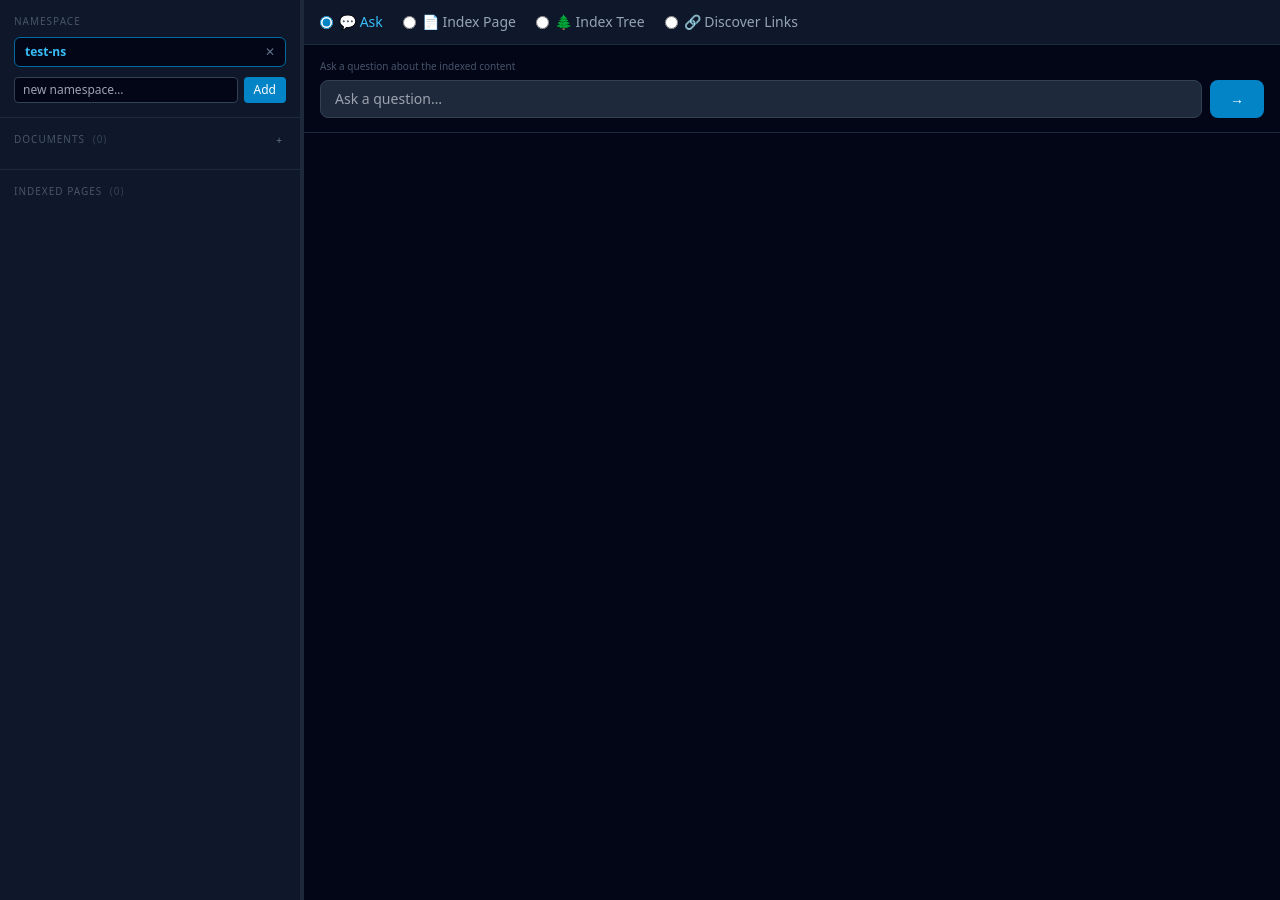
it: App › keeps an Ask answer expanded when another tool returns a result
Check: the text "test-ns" is shown, box x1=25 y1=43 x2=66 y2=60
Type "first question" into the field with placeholder "Ask a question…" at (761,99), box x1=320 y1=80 x2=1202 y2=118
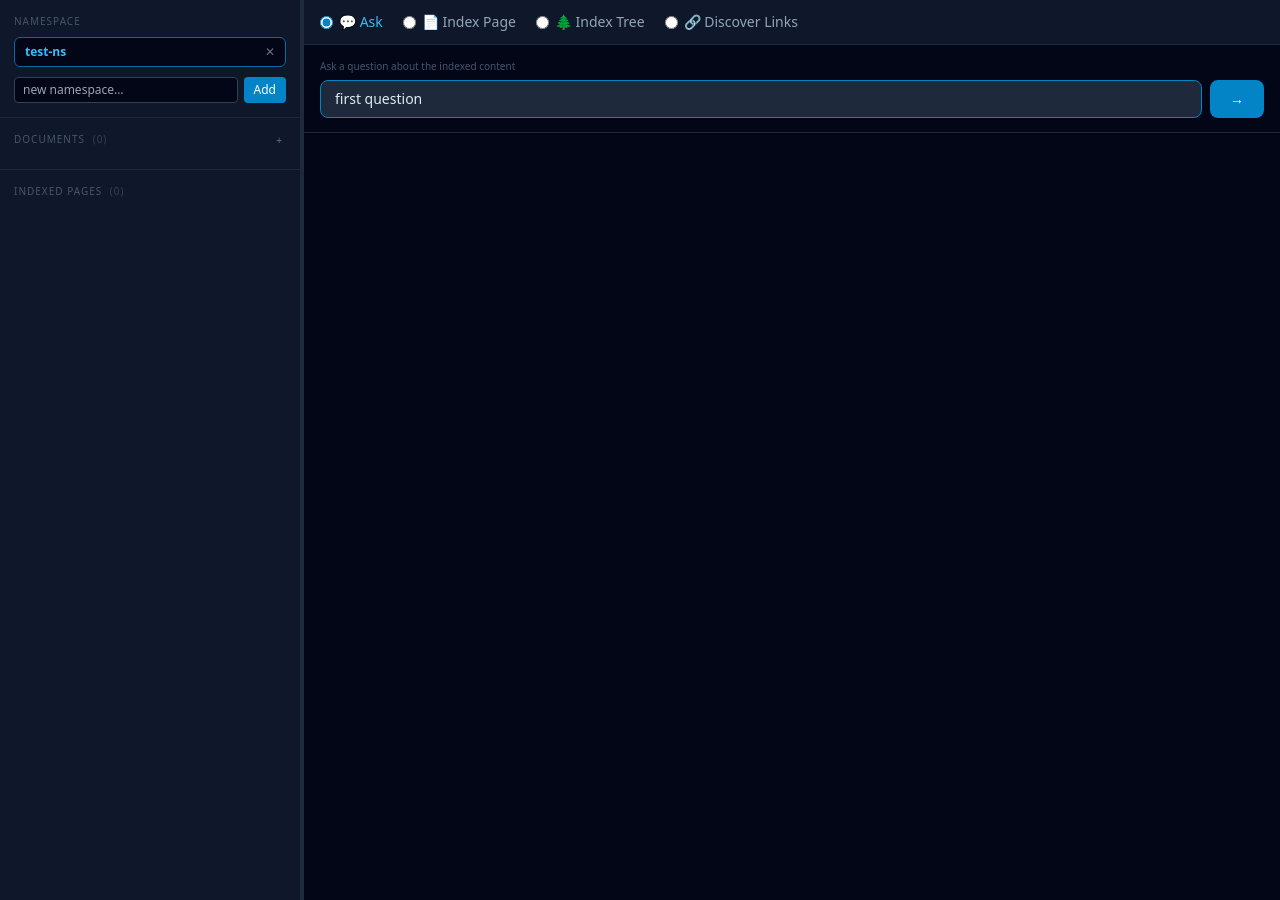
Click the button named "Ask" at (1237,99), box x1=1210 y1=80 x2=1264 y2=118
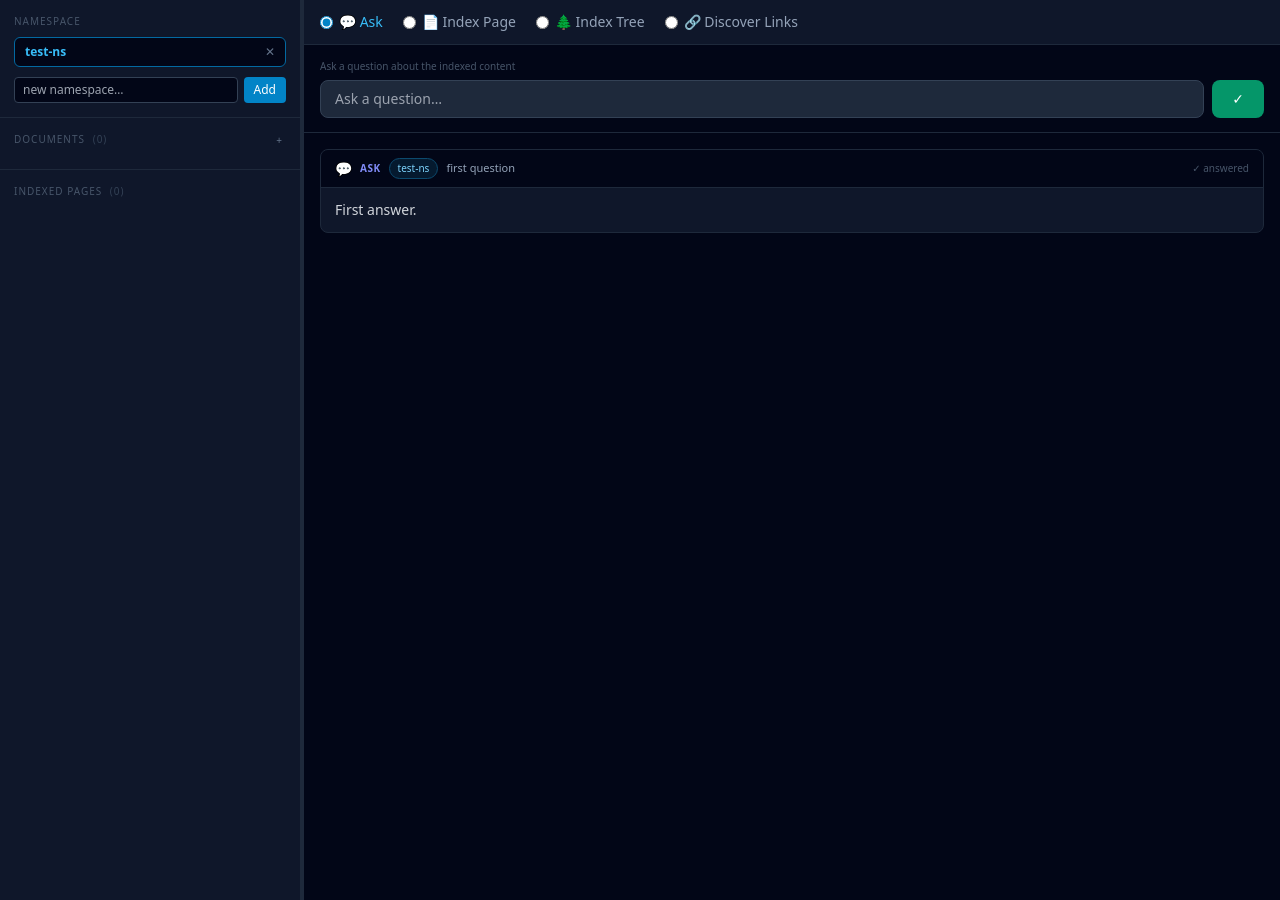
Check: the text "First answer." is shown, box x1=335 y1=200 x2=416 y2=219
Click the radio button labelled "Index Page" at (409,22), box x1=403 y1=16 x2=416 y2=28
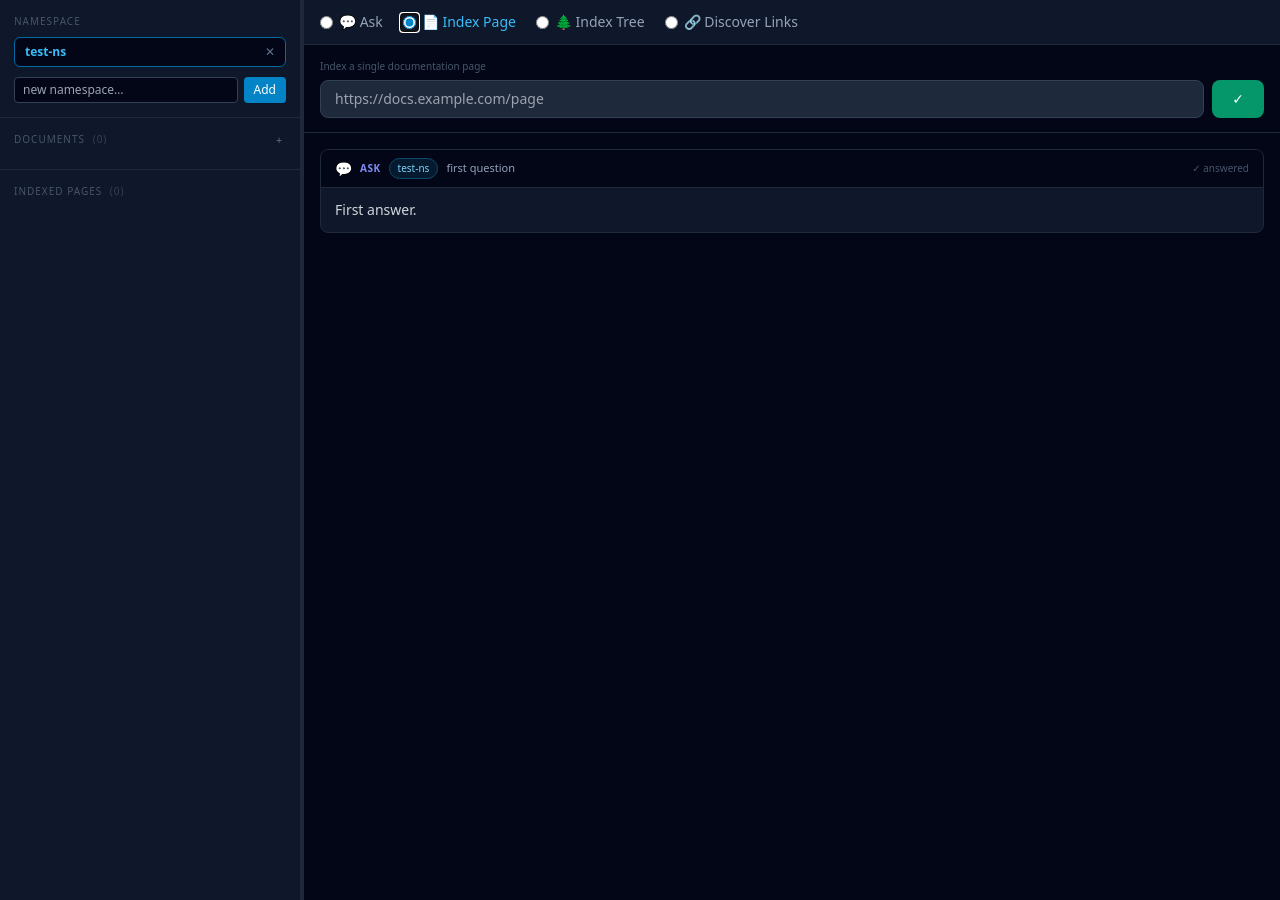
Type "https://example.com/" into the field with placeholder "https://docs.example.com/page" at (762,99), box x1=320 y1=80 x2=1204 y2=118
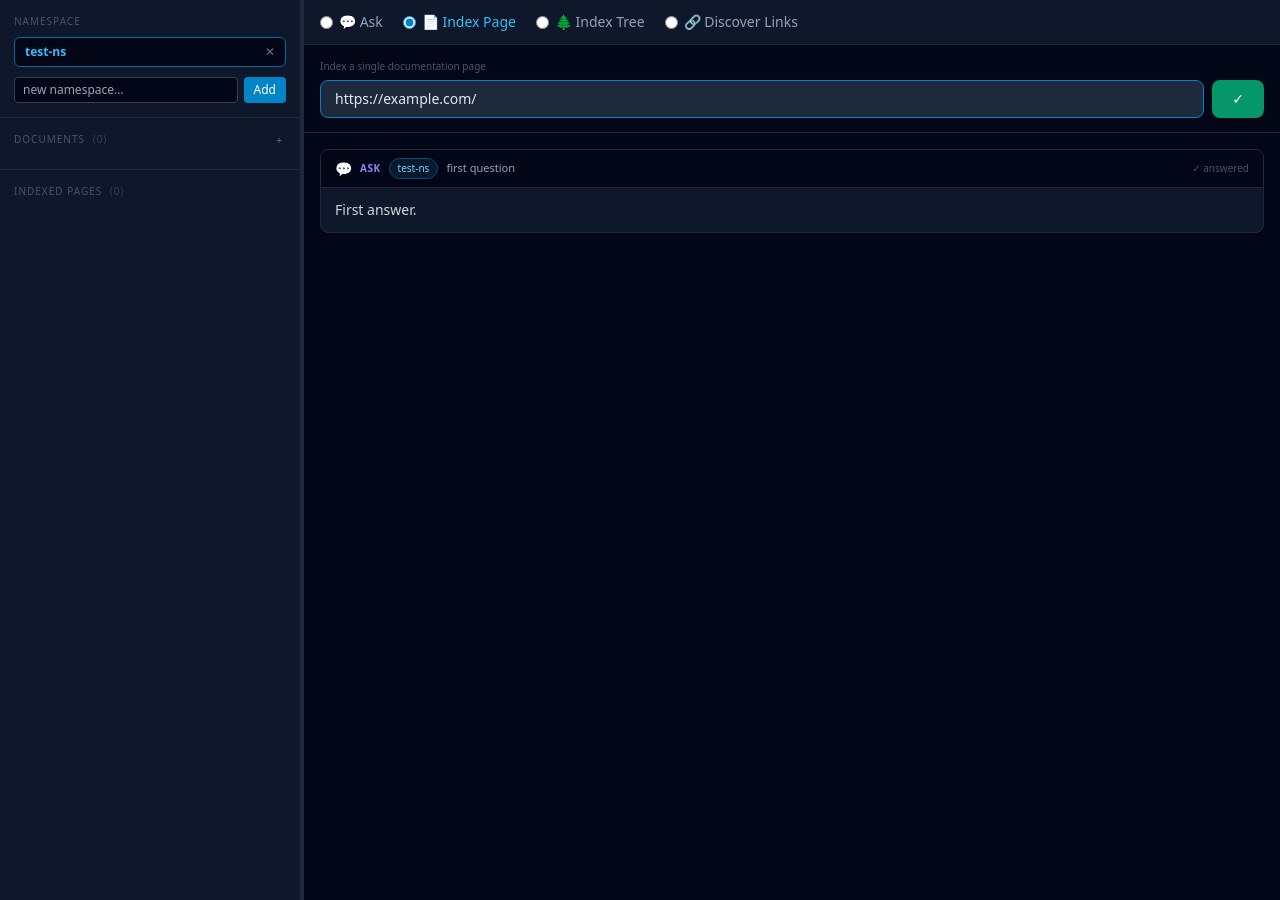
Click the button named "Index" at (1238,99), box x1=1212 y1=80 x2=1264 y2=118
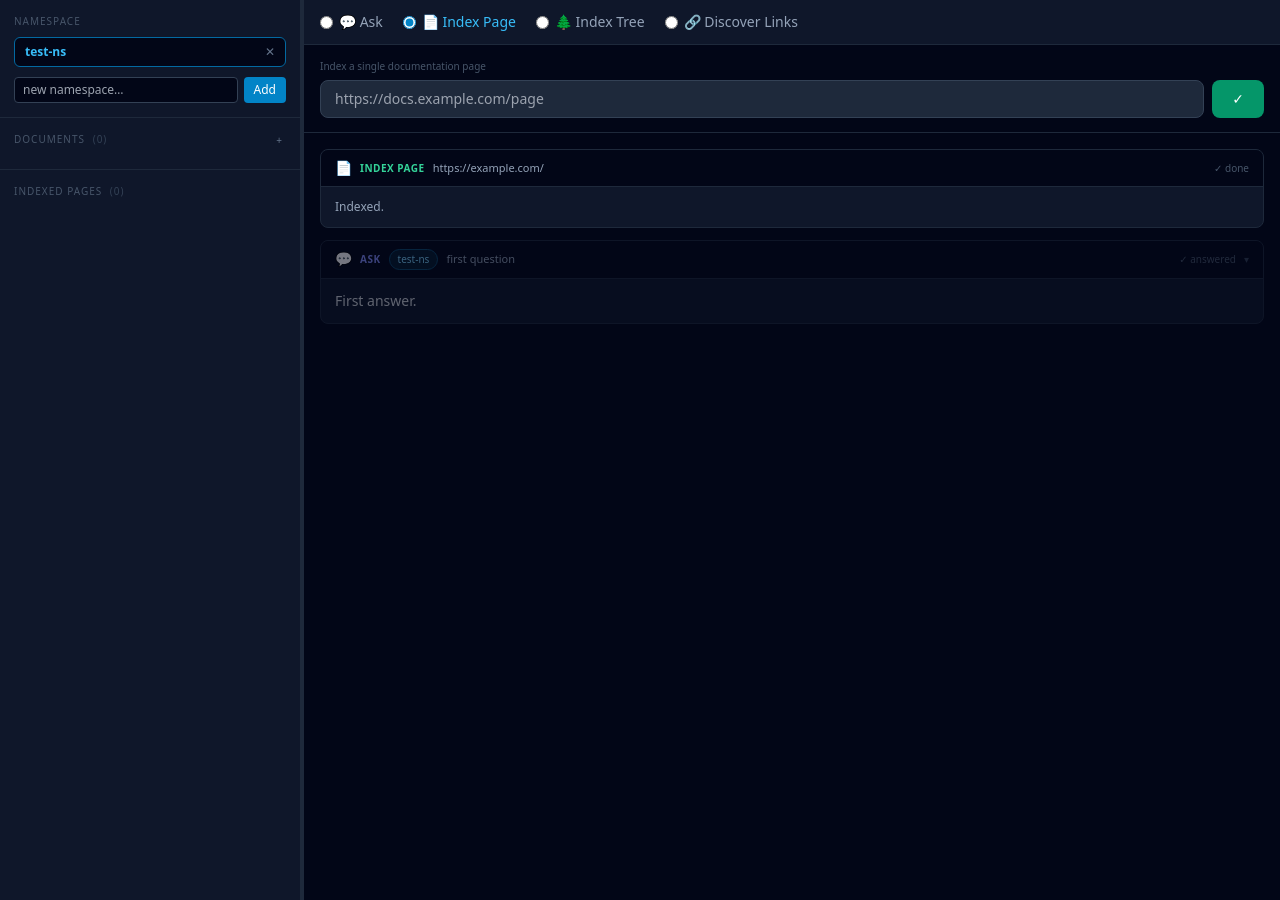
Check: the text "First answer." is shown, box x1=335 y1=290 x2=416 y2=310
Check: the text "Indexed." is shown, box x1=335 y1=198 x2=384 y2=215
